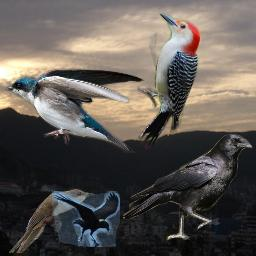Crow: (123, 133, 256, 242), (52, 191, 120, 247)
Cuckoo: (9, 189, 95, 253)
Swallow: (5, 67, 145, 153)
Woodpecker: (137, 12, 201, 149)
